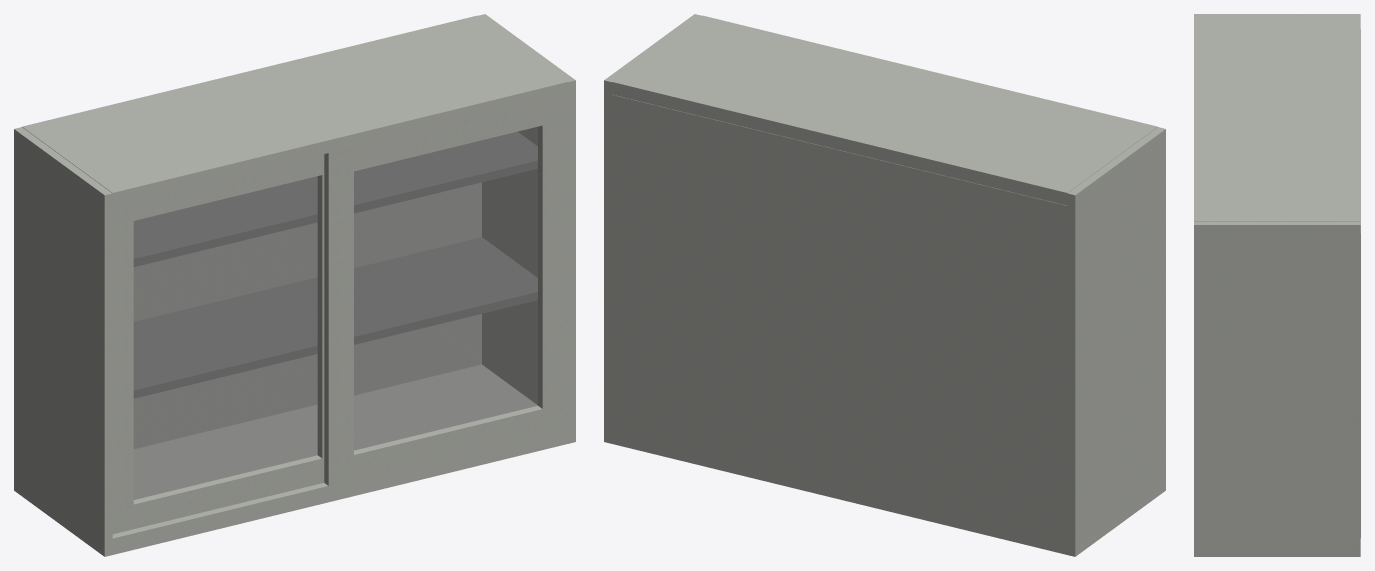
Rendered from shelfGlass.gltf.
3 views of the same model, side by side, from view 1: azimuth 30°, elevation 25°; view 2: azimuth 150°, elevation 25°; view 3: azimuth 270°, elevation 25° (orthographic). The views are drawn at different scales.
Parts seen in each view (by area): view 1: UpperShelf, GlassShelfDoor (×2), TopShelf (×2); view 2: UpperShelf; view 3: UpperShelf.
Part boxes in pixels (x1=…): UpperShelf: x1=14, y1=14, x2=575, y2=556; GlassShelfDoor (×2): x1=112, y1=94, x2=567, y2=534; TopShelf (×2): x1=133, y1=131, x2=537, y2=398; UpperShelf: x1=604, y1=14, x2=1165, y2=556; UpperShelf: x1=1194, y1=14, x2=1360, y2=556.
Bounding box in the file's own units: 1.2 × 0.881 × 0.401.
Materials: 3 (1 with a texture image).
